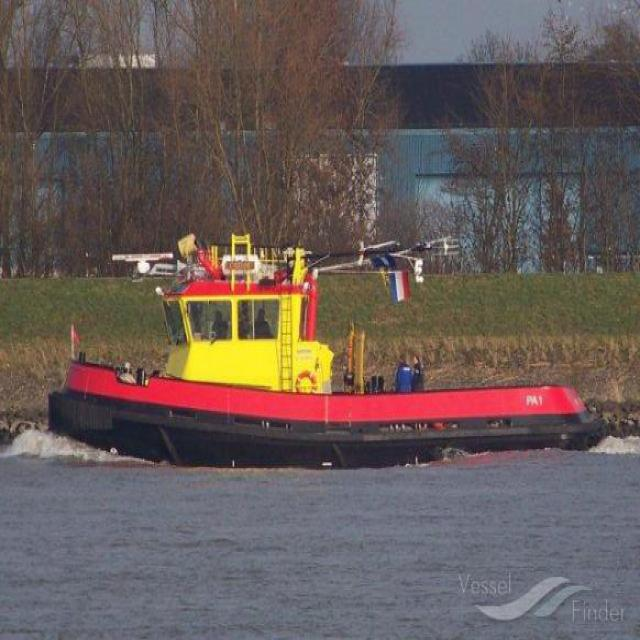OCR: (516, 384, 545, 412)
